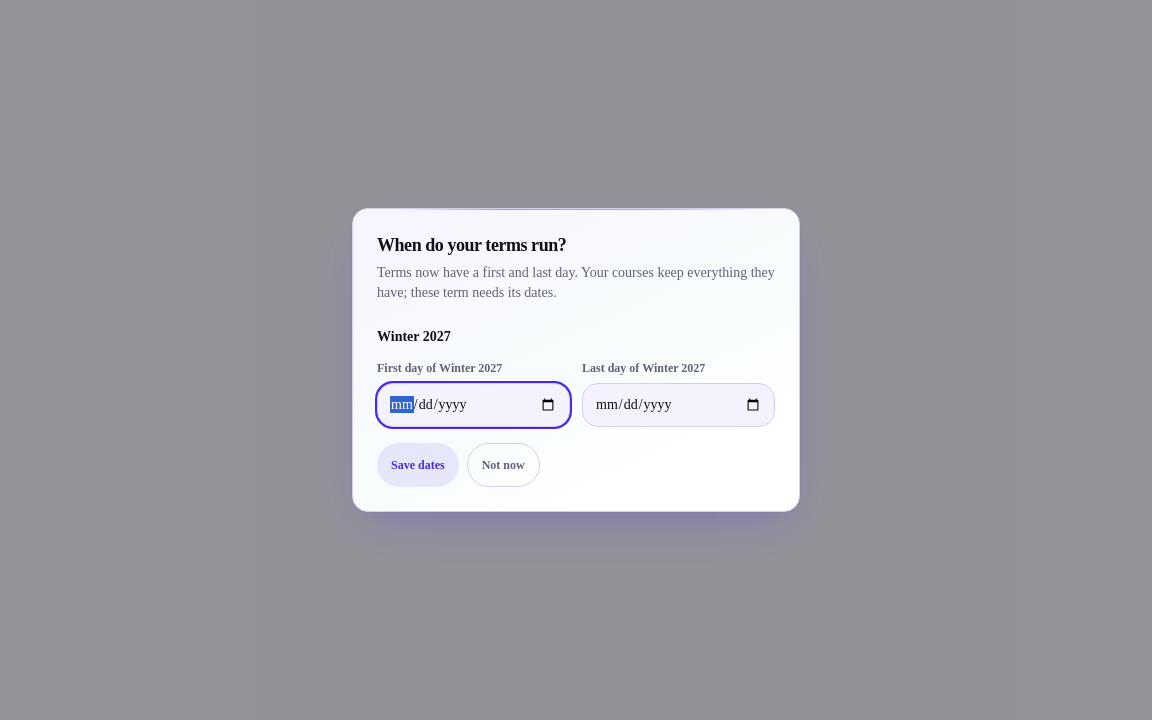
Scenario: TermMigrationPrompt › rejects dates that do not make a term and saves nothing
Type "2027-03-19" into the date field labelled "First day of Winter 2027" at (474, 405), box 377,383 -> 570,427
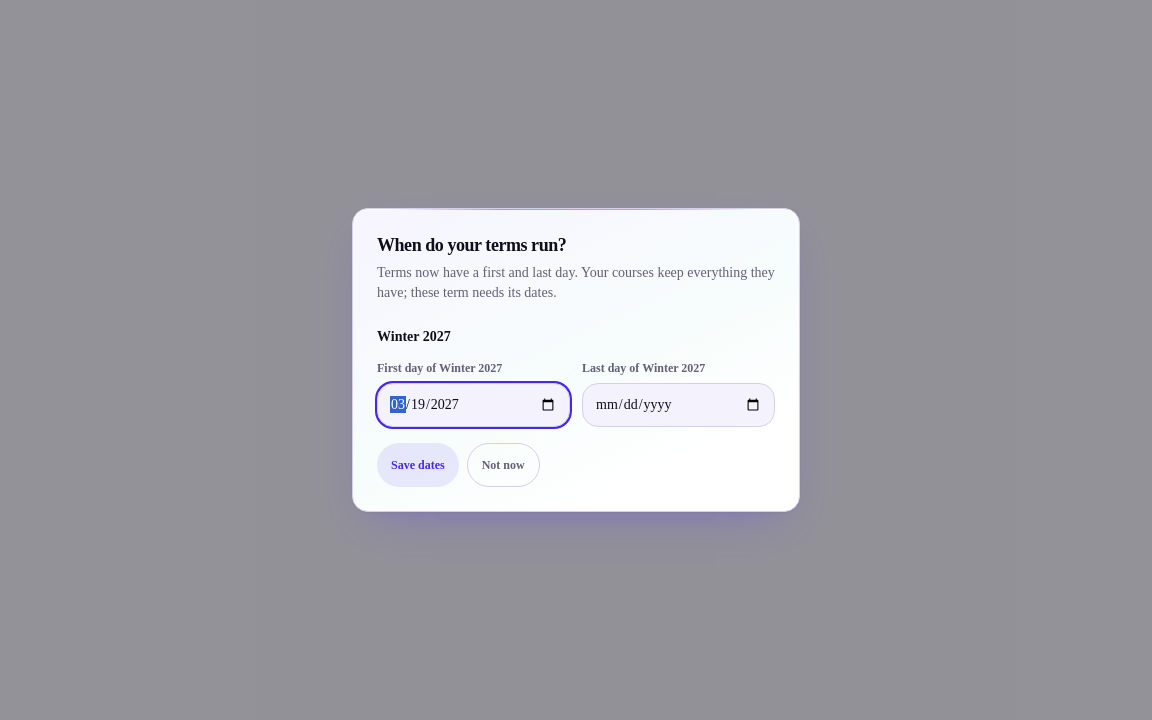
Type "2027-01-04" into the date field labelled "Last day of Winter 2027" at (678, 405), box 582,383 -> 775,427
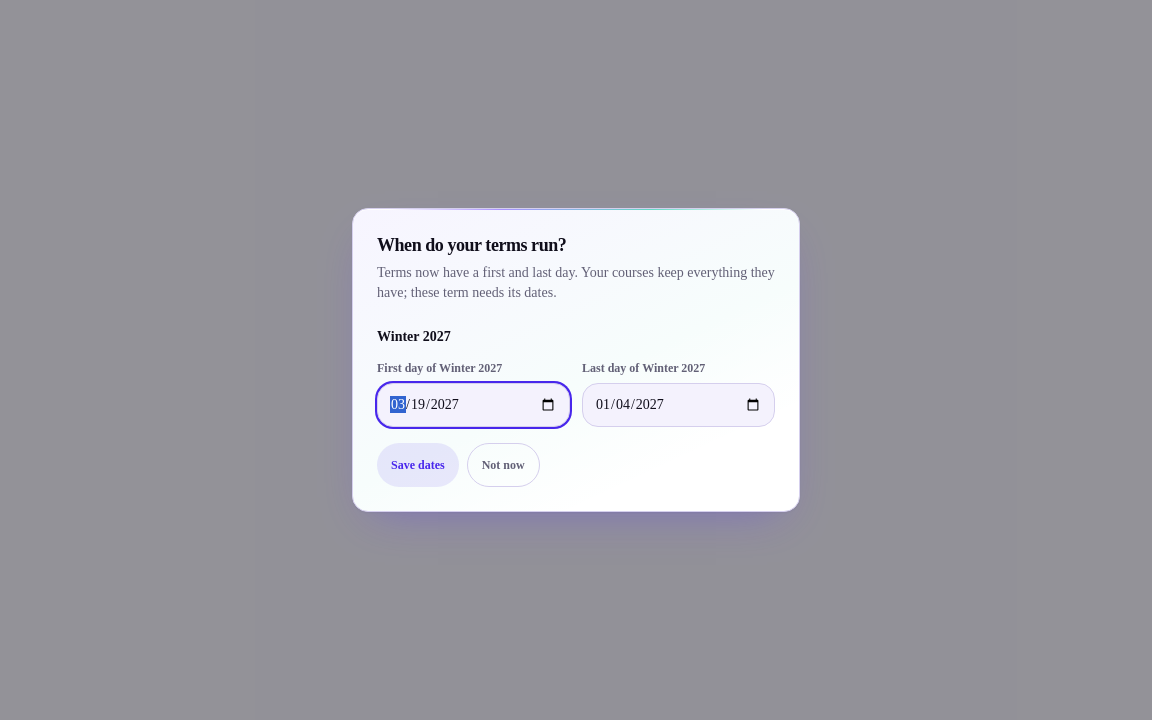
Click the button "Save dates" at (418, 465), box 377,443 -> 459,487
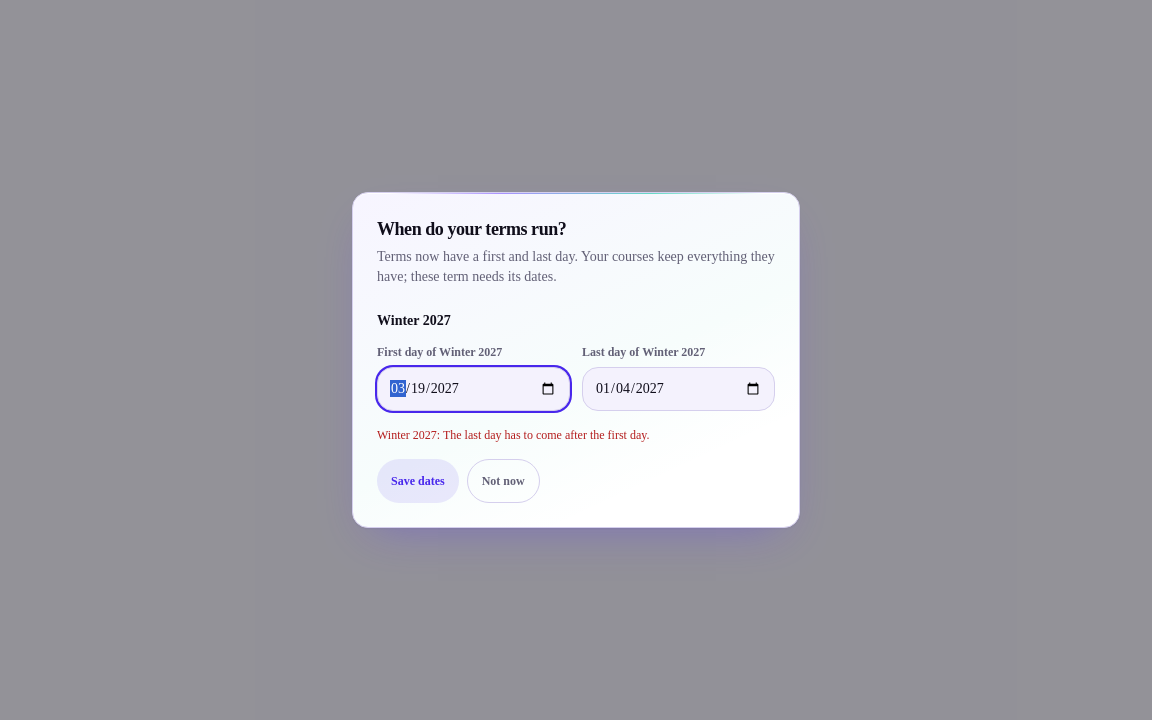
Now the message reads "Winter 2027: The last day has to come after the first day.", box 377,428 -> 649,442
